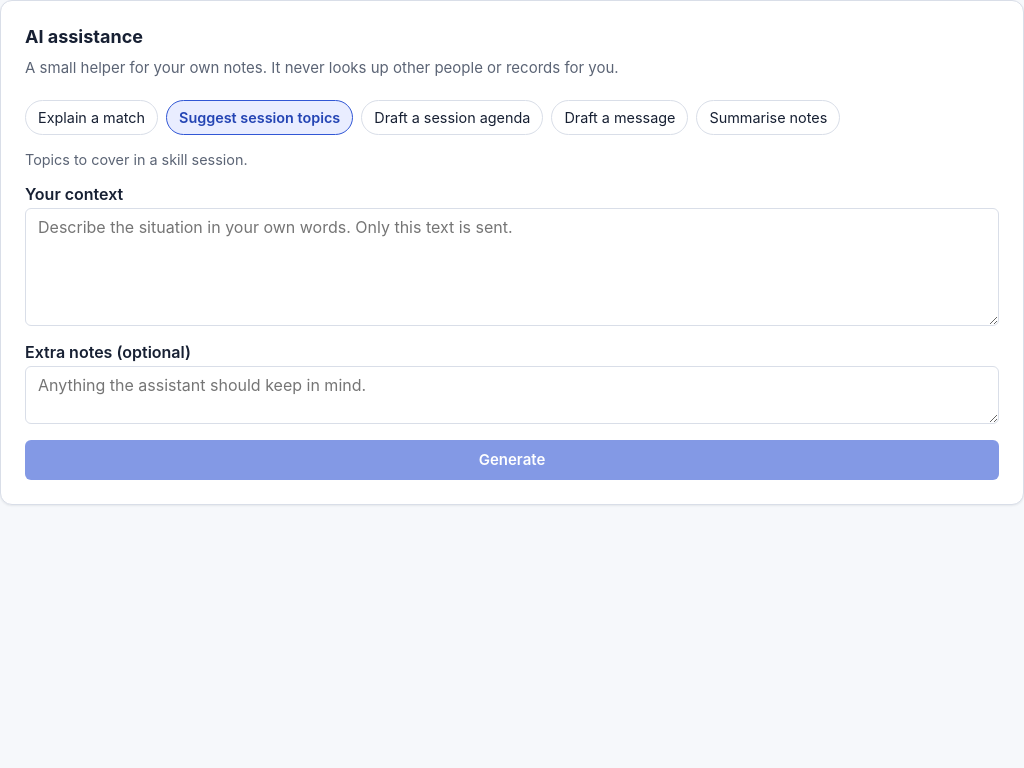
Test: AiAssistancePanel › discards the draft on request
Replace the text in the text box with placeholder "Describe the situation" with "Session notes about recursion." at (512, 267), box [25,208,999,326]
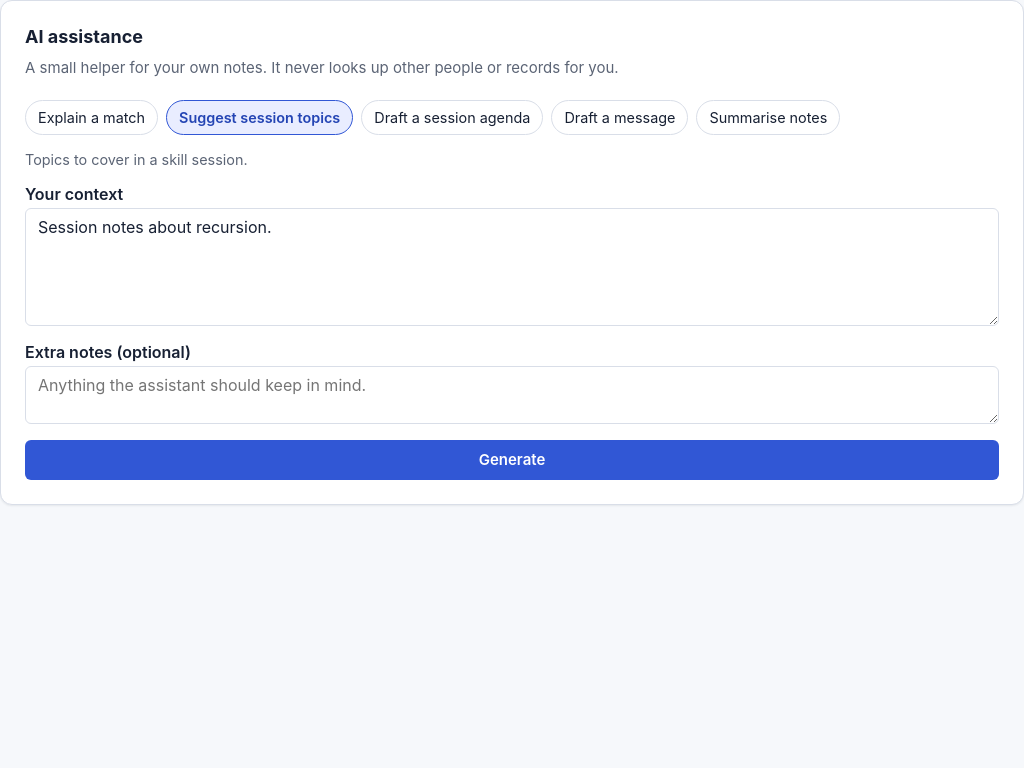
Click the button "Generate" at (512, 460), box [25,440,999,480]
(page scrolled)
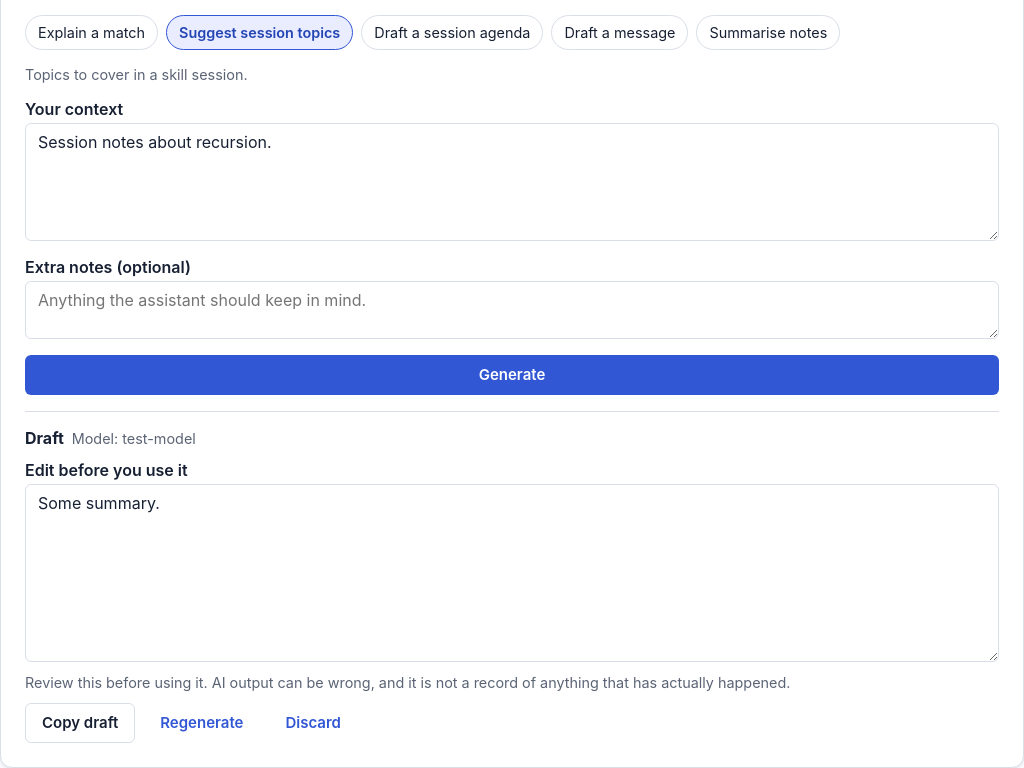
Expected: the text box labelled "Edit before you use it" is shown, [25,484,999,662]
Click the button "Discard" at (313, 723), box [268,703,358,743]
(page scrolled)
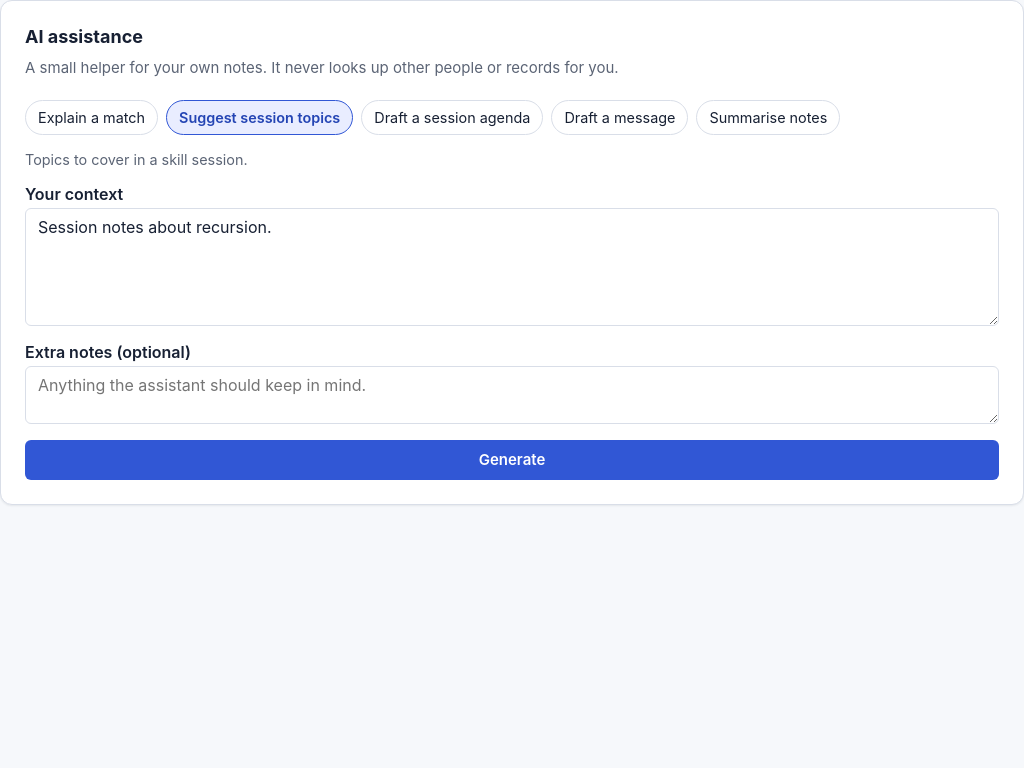
Expected: the text labelled "Edit before you use it" is gone
